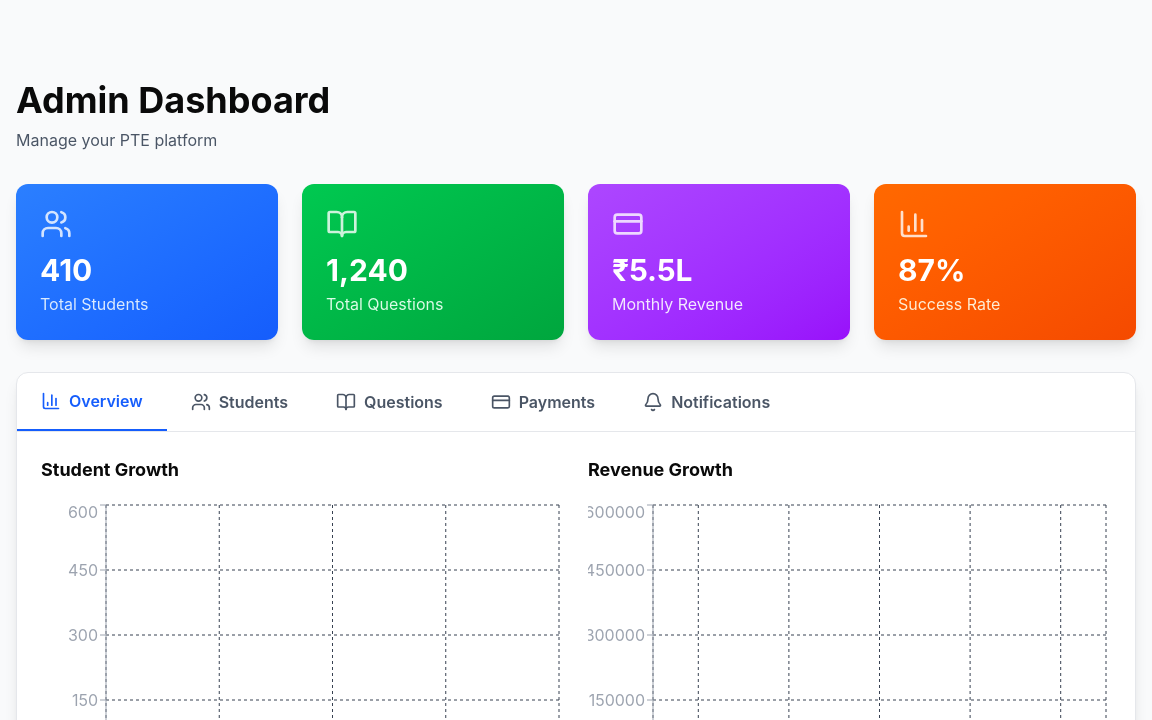
it: AdminPanel › switches tabs and shows Students table content
The image size is (1152, 720).
Click the button "Students" at (239, 402), box [167,373,312,431]
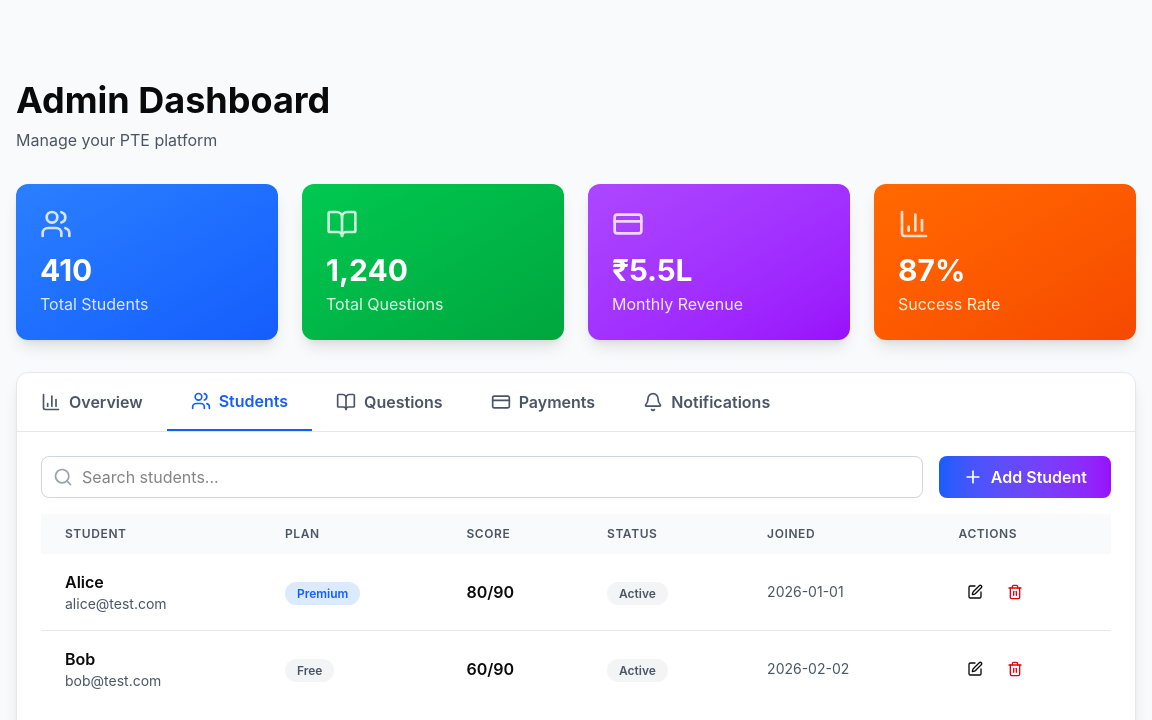
Expected: the text "Alice" is shown, [65,572,104,592]
Expected: the text "Bob" is shown, [65,649,95,669]
